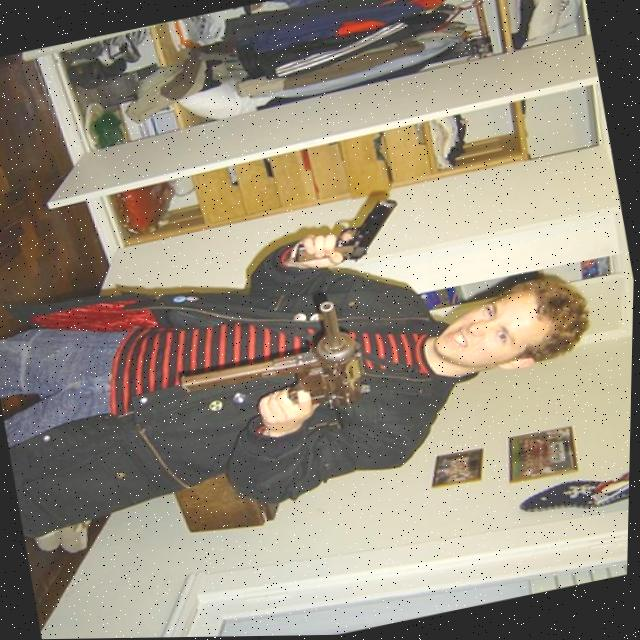firearm: (169, 295, 373, 440)
pistol: (327, 195, 408, 268)
